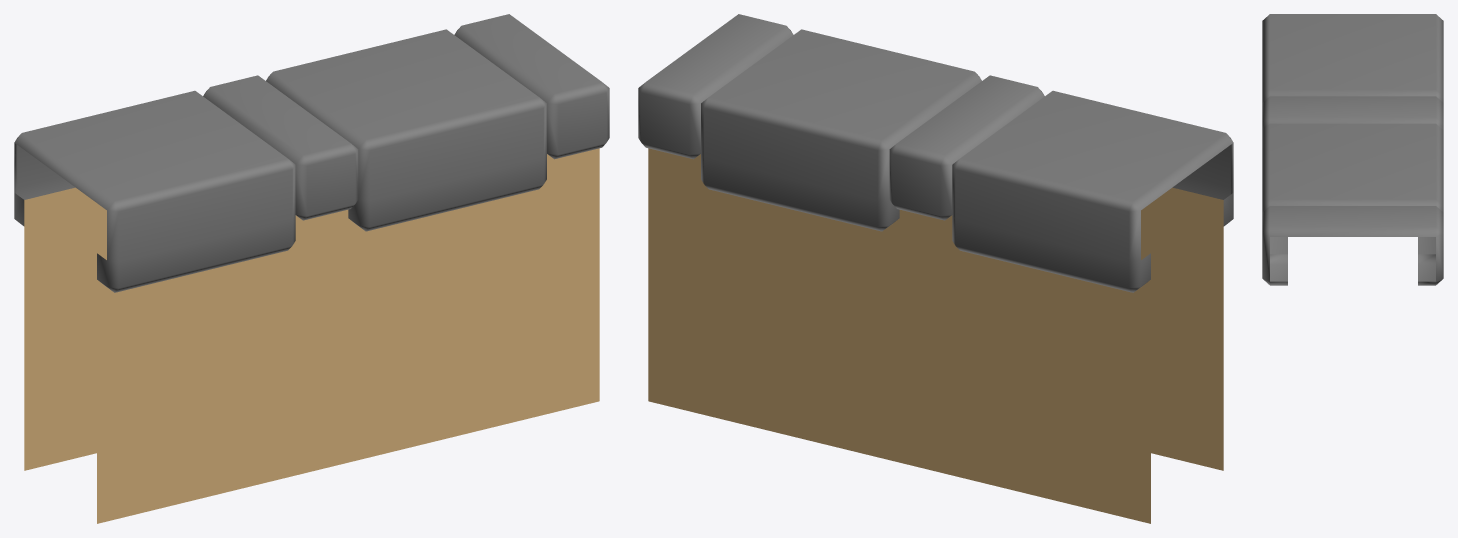
Rendered from SM_WallA_4x2_LOD0.fbx.
3 renders of one model, left to right at view 1: azimuth 30°, elevation 25°; view 2: azimuth 150°, elevation 25°; view 3: azimuth 270°, elevation 25°, orthographic. The views are drawn at different scales.
Visible parts, largest first — view 1: SM_WallA_4x2_LOD0; view 2: SM_WallA_4x2_LOD0; view 3: SM_WallA_4x2_LOD0.
Part boxes in pixels (x1=…): SM_WallA_4x2_LOD0: x1=14, y1=14, x2=609, y2=523; SM_WallA_4x2_LOD0: x1=638, y1=14, x2=1233, y2=523; SM_WallA_4x2_LOD0: x1=1262, y1=14, x2=1443, y2=285.
Size of the model in its own units: 4 by 2.5 by 1.4.
